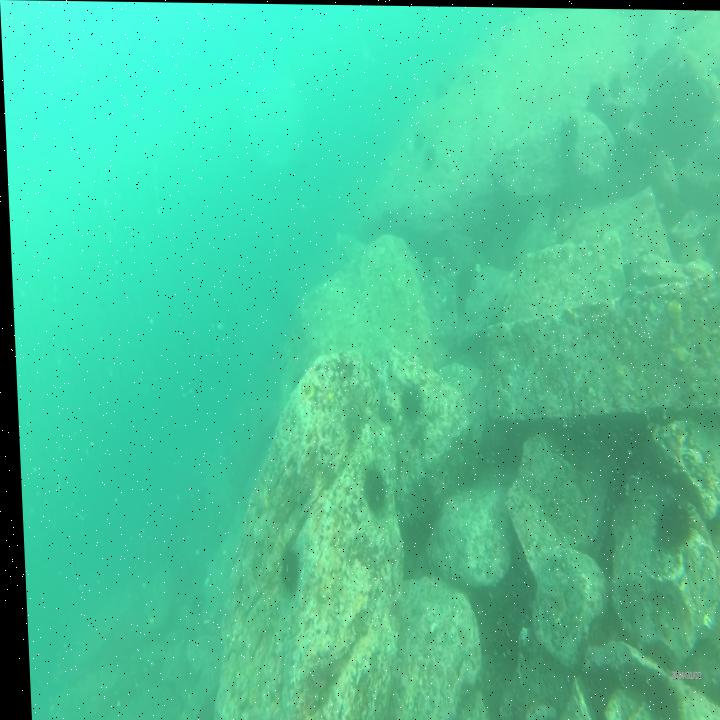echinus: (649, 493, 693, 552), (358, 460, 386, 523), (271, 543, 299, 599), (336, 383, 366, 434), (396, 379, 425, 428), (559, 109, 578, 154), (587, 75, 607, 110), (180, 589, 200, 621), (420, 146, 437, 175), (606, 66, 622, 95), (411, 128, 425, 154)
